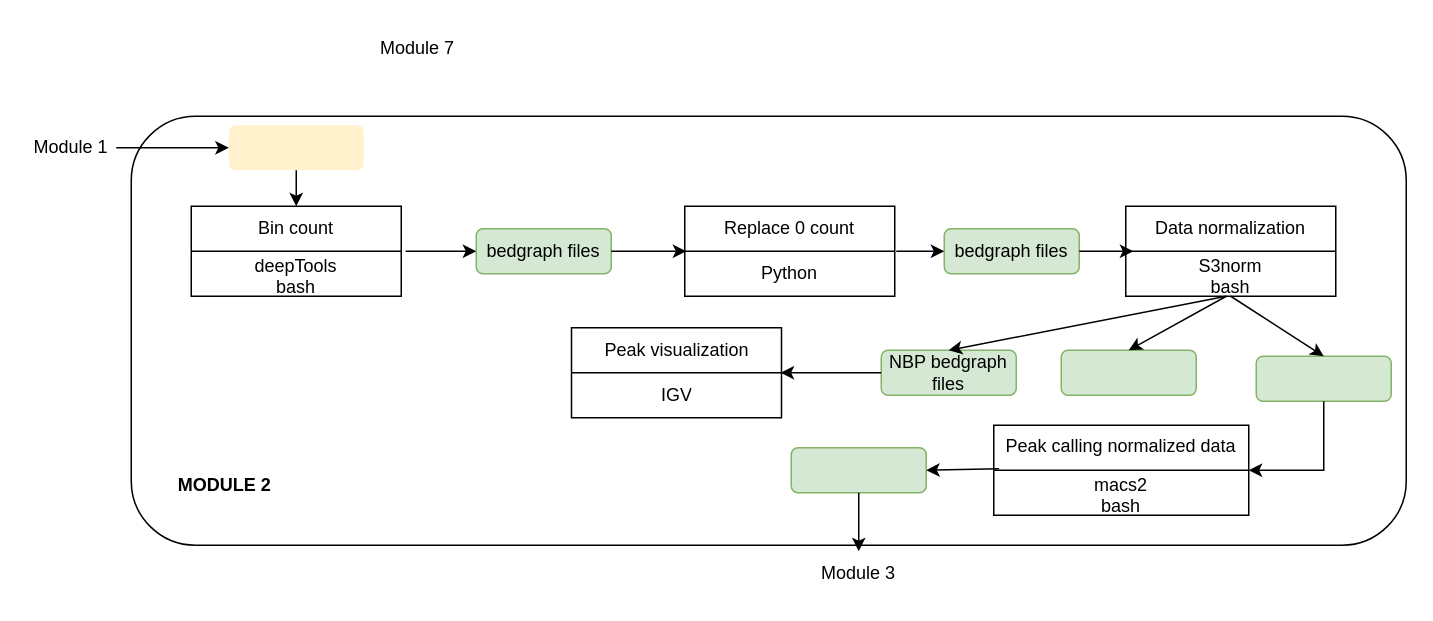
Some shapes in this 1433 by 621 pixel diagram are drawn without their labels. Here are the shapes that lost their labels. From the top down, the centre of each, then its label:
At (295,147): "filter bam files".
At (1128,372): "S3norm rc bedgraph files".
At (1323,378): "S3norm NBP bedgraph files".
At (858,469): "narrowpeak files".
